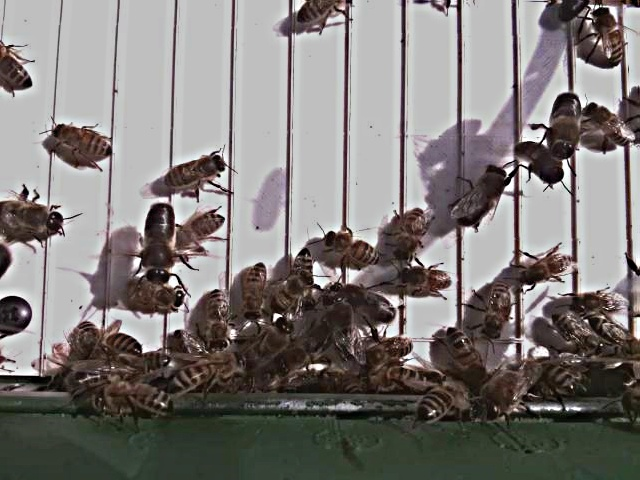Drone: (454, 158, 511, 231), (140, 197, 178, 287), (329, 280, 400, 324), (546, 86, 584, 159), (0, 196, 68, 235)
Worker: (586, 4, 630, 67), (163, 151, 230, 191), (50, 120, 118, 159), (442, 324, 489, 379), (585, 100, 635, 150), (562, 285, 633, 319), (320, 228, 383, 265), (394, 203, 430, 263), (517, 250, 578, 285), (482, 276, 514, 340), (206, 283, 236, 348), (396, 262, 455, 291), (246, 258, 270, 327), (0, 46, 37, 88)
